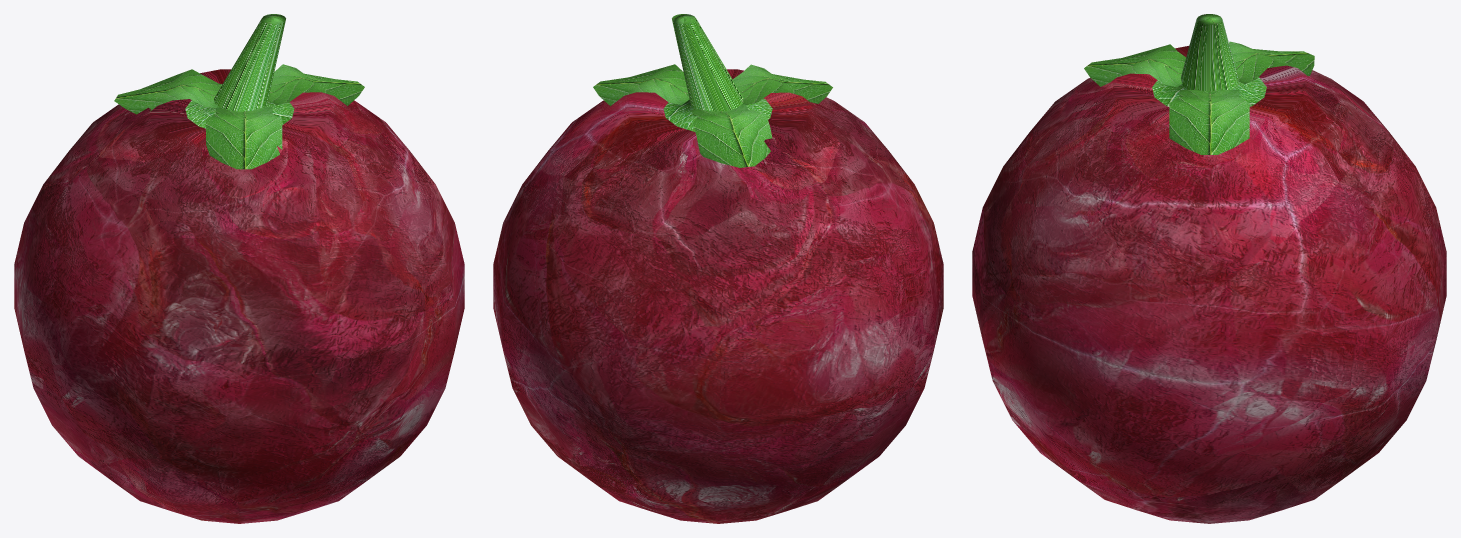
Rendered from berry01.fbx.
3 renders of one model, left to right at view 1: azimuth 30°, elevation 25°; view 2: azimuth 150°, elevation 25°; view 3: azimuth 270°, elevation 25°, orthographic. The views are drawn at different scales.
Visible parts, largest first — view 1: pPlane4; view 2: pPlane4; view 3: pPlane4.
Boxes of the visible parts, x1,y1,x2,y2 form: pPlane4: [14, 14, 464, 523]; pPlane4: [493, 14, 943, 523]; pPlane4: [972, 14, 1446, 523].
Size of the model in its own units: 1.97 by 2.31 by 1.98.
2 materials, 2 textured.
